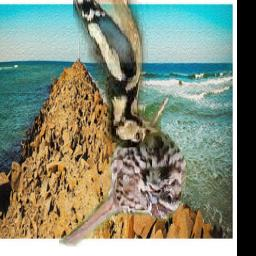Sparrow: (59, 99, 187, 247)
Woodpecker: (73, 0, 161, 148)
